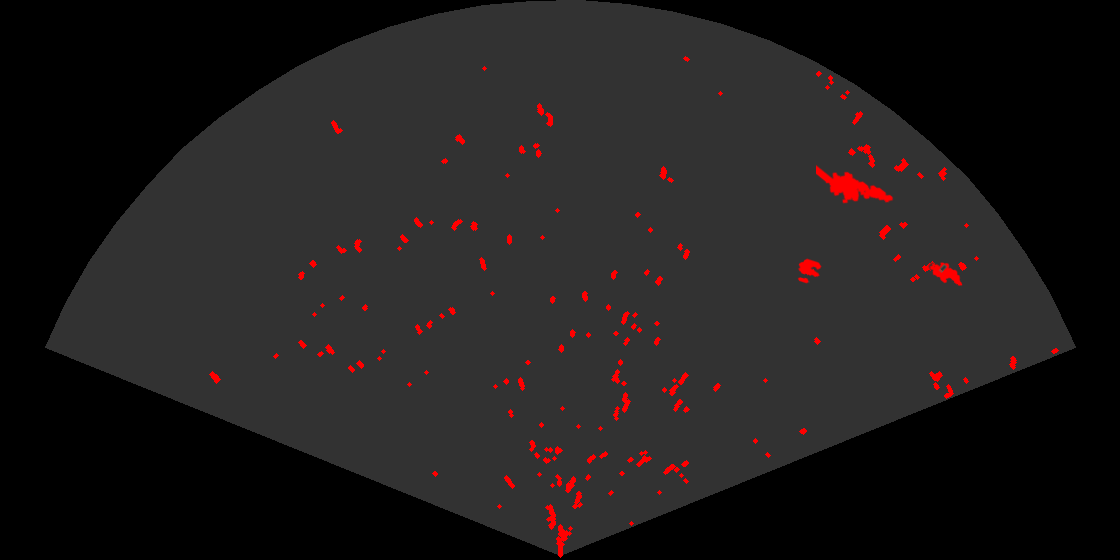AUV: (928, 261, 964, 288)
ball: (796, 257, 823, 285)
frogman: (816, 163, 895, 205)
